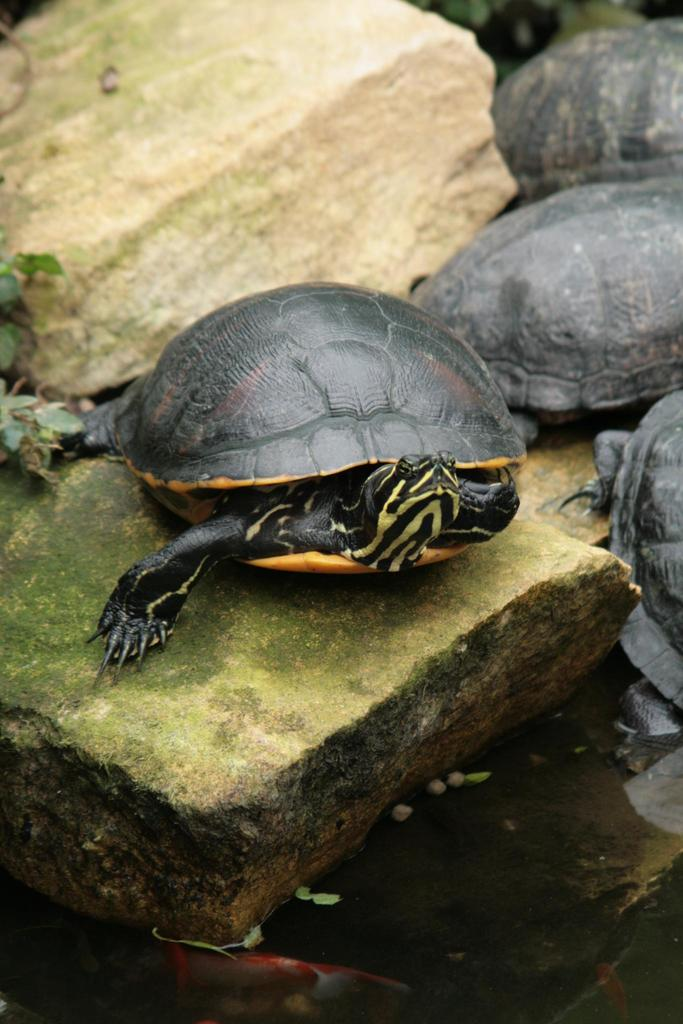Sea turtles: (89, 280, 526, 679), (400, 177, 682, 442), (554, 392, 682, 738), (486, 7, 682, 199)
